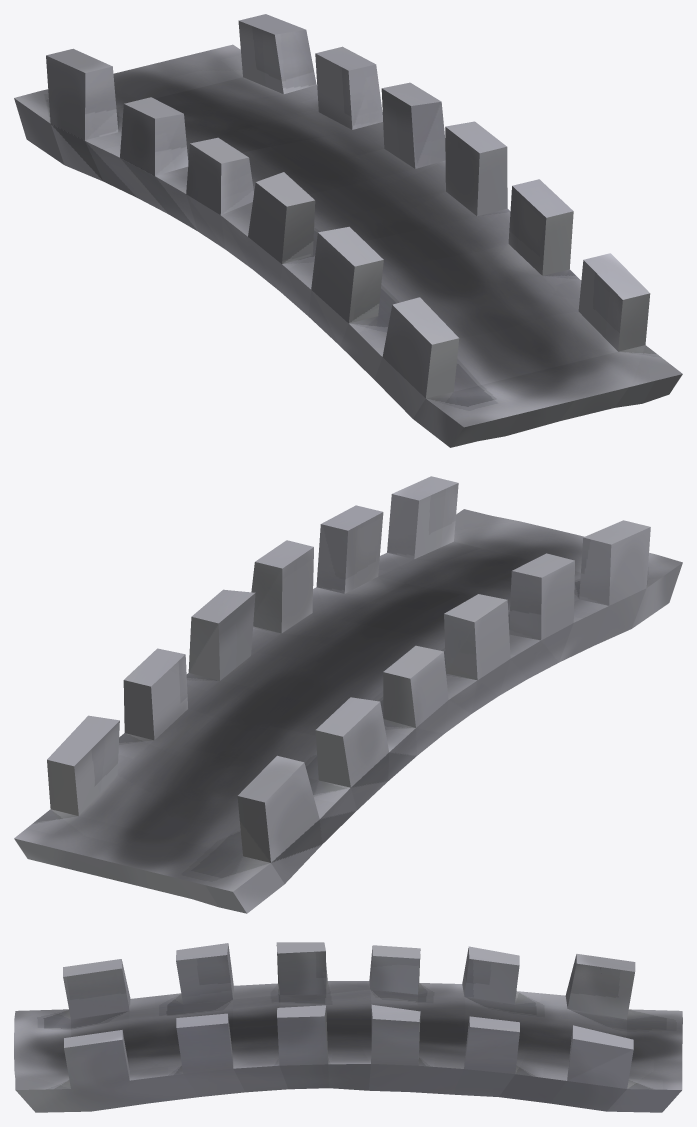
Rendered from Bridge1.fbx.
3 renders of one model, top to bottom at view 1: azimuth 30°, elevation 25°; view 2: azimuth 150°, elevation 25°; view 3: azimuth 270°, elevation 25°, orthographic. The views are drawn at different scales.
Parts seen in each view (by area): view 1: Cube; view 2: Cube; view 3: Cube.
Part boxes in pixels (box(x1,y1,x2,y2)): Cube: box(14, 14, 682, 447); Cube: box(14, 476, 682, 913); Cube: box(14, 942, 682, 1112).
Size of the model in its own units: 674 by 369 by 2263.
1 material, 1 textured.
